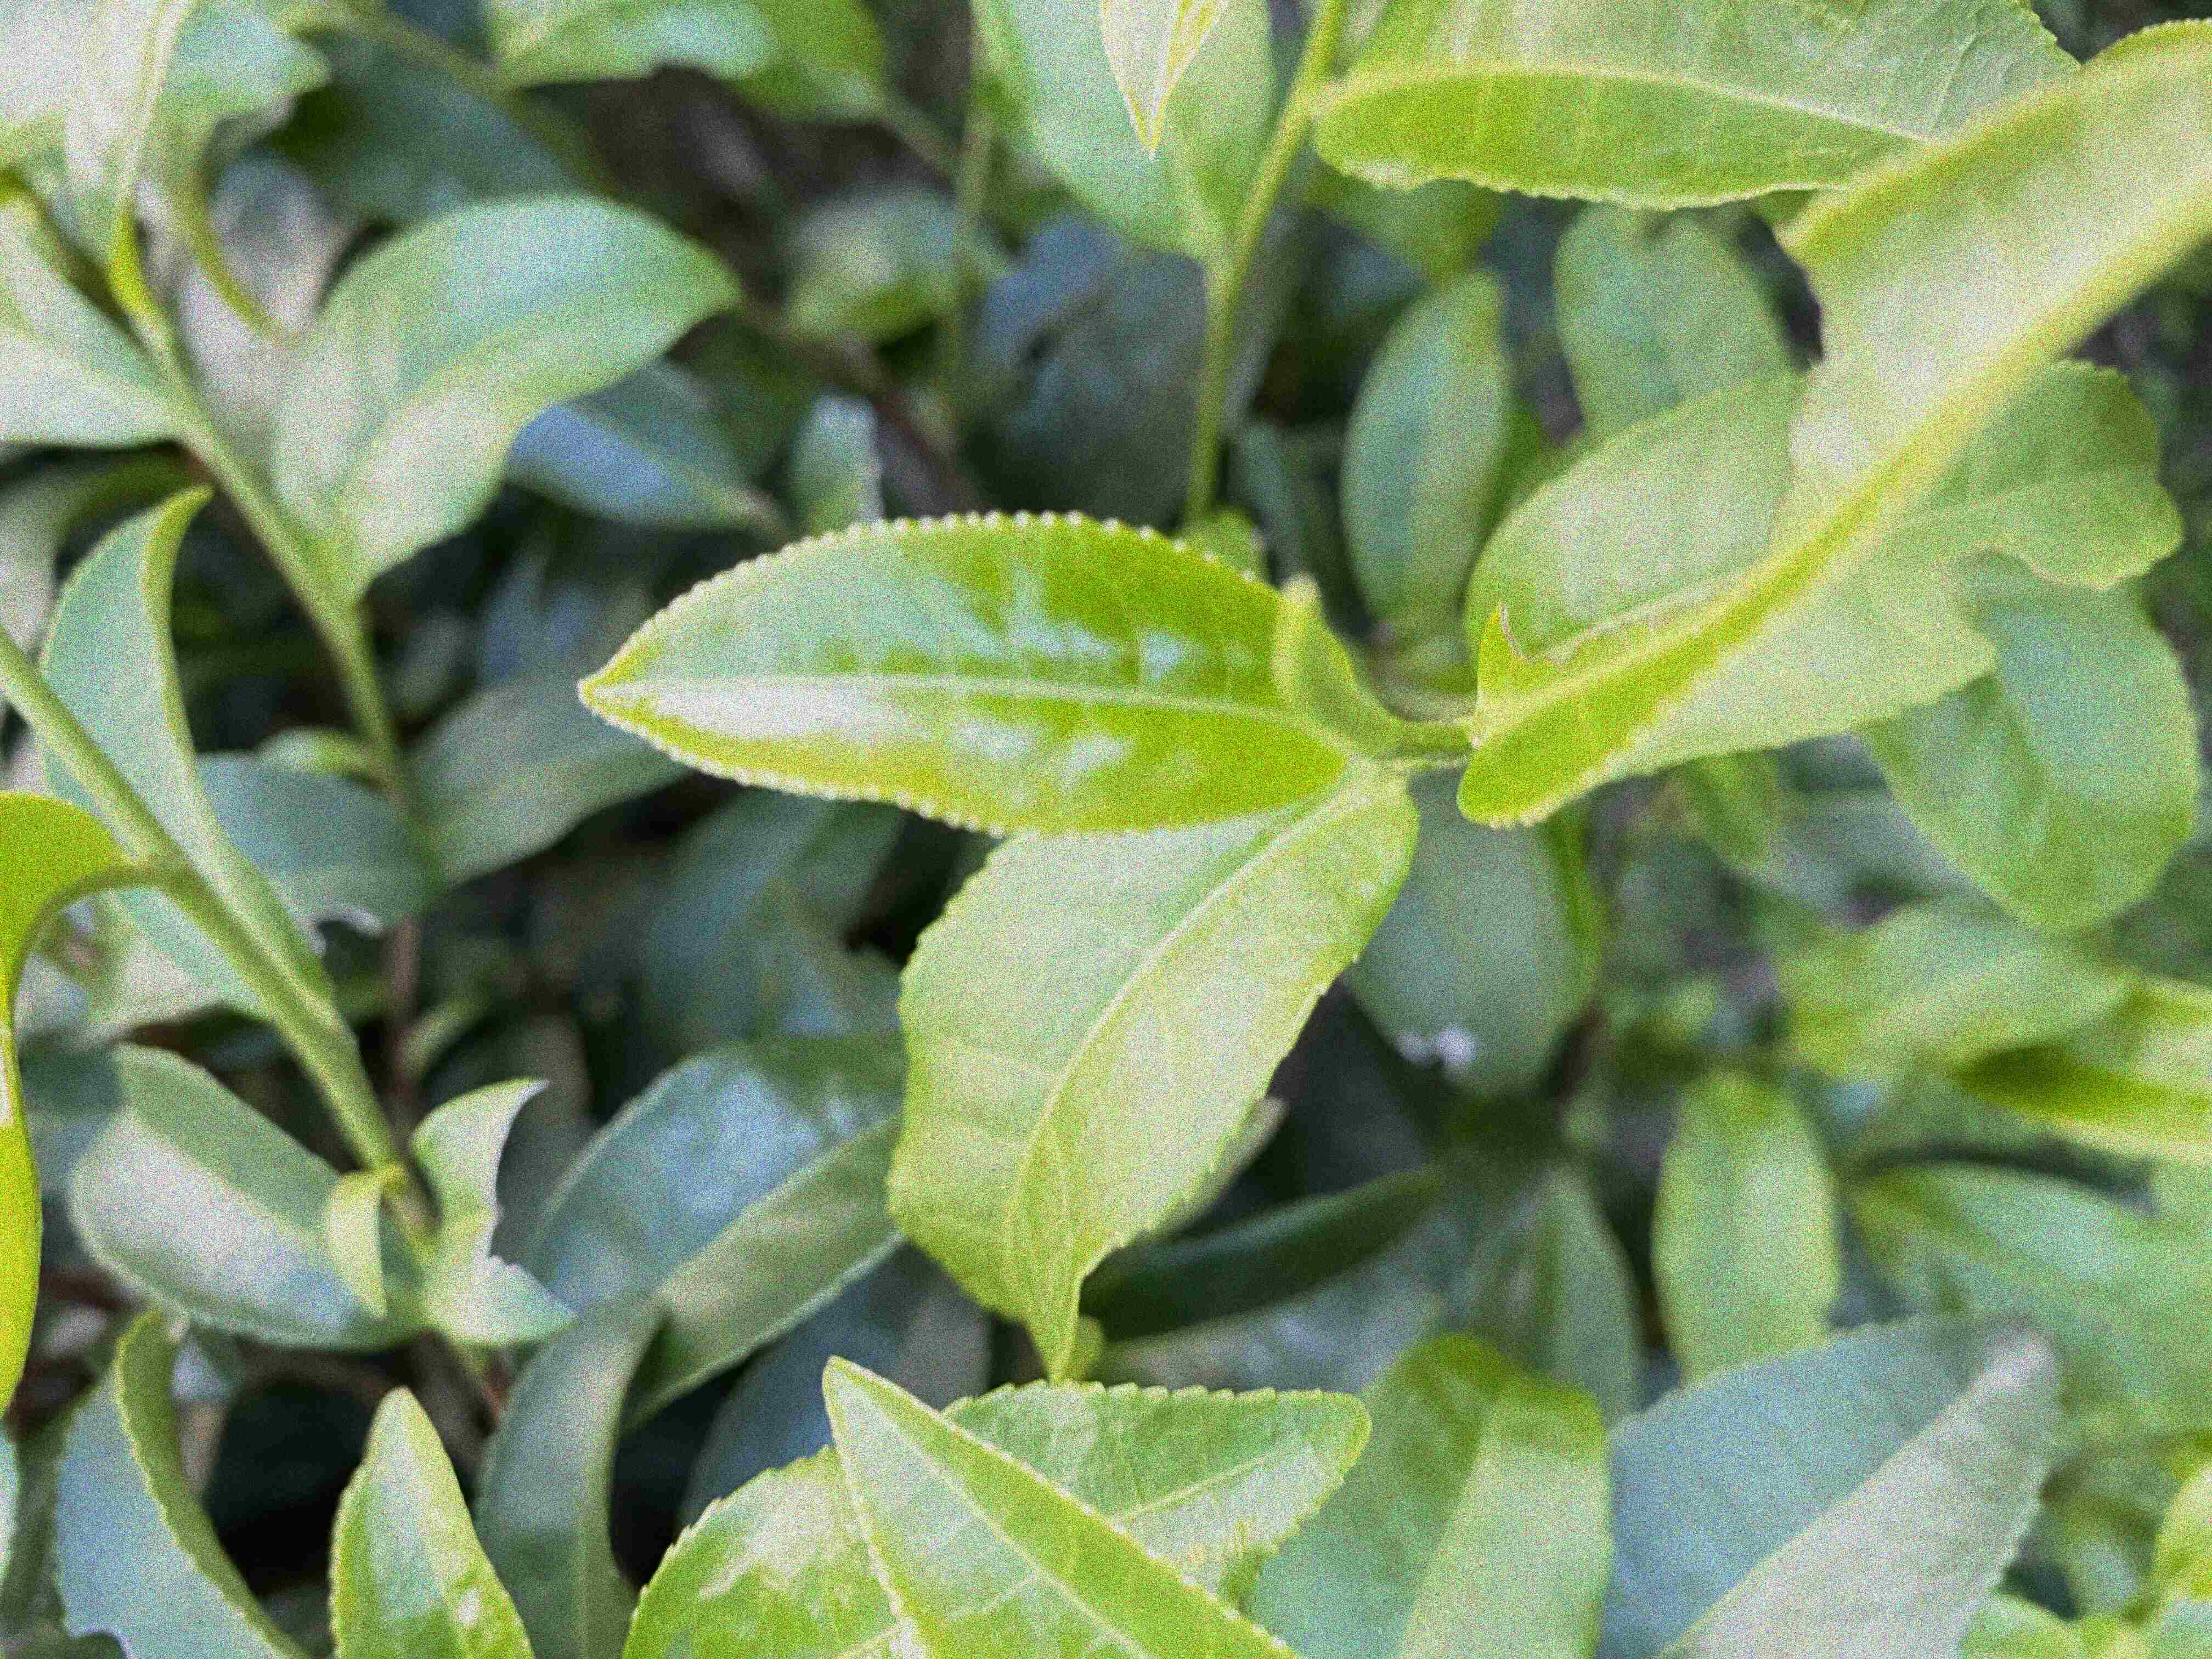chihuo_high: (1454, 19, 2212, 835)
chihuo_low: (1460, 356, 2184, 782), (42, 1305, 312, 1656)
healthy: (883, 779, 1420, 1373), (568, 500, 1376, 842), (617, 1389, 1378, 1656), (813, 1347, 1299, 1654), (319, 1387, 543, 1656)
